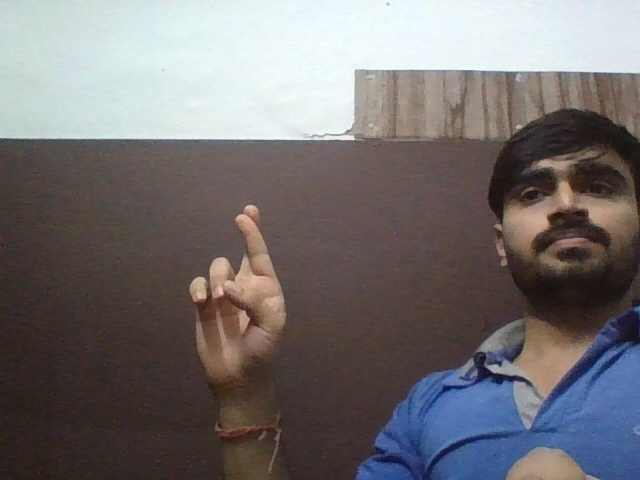R: (177, 197, 301, 400)
